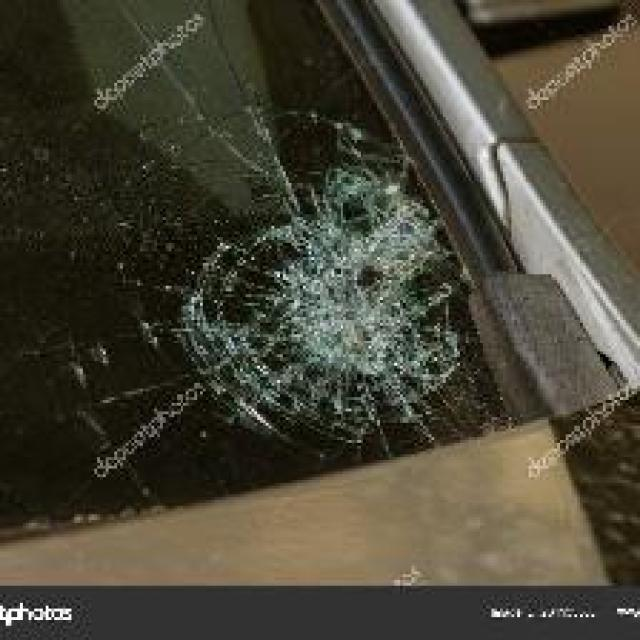glass_shatter_moderate: (151, 114, 463, 443)
